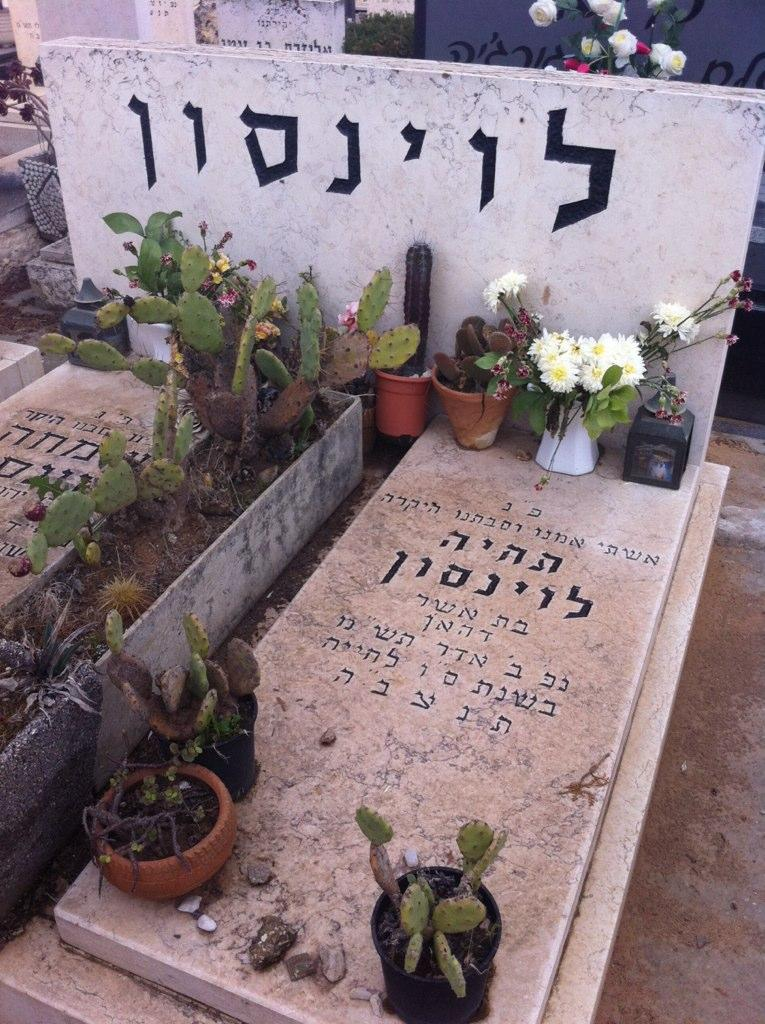vault: (0, 35, 765, 1022)
